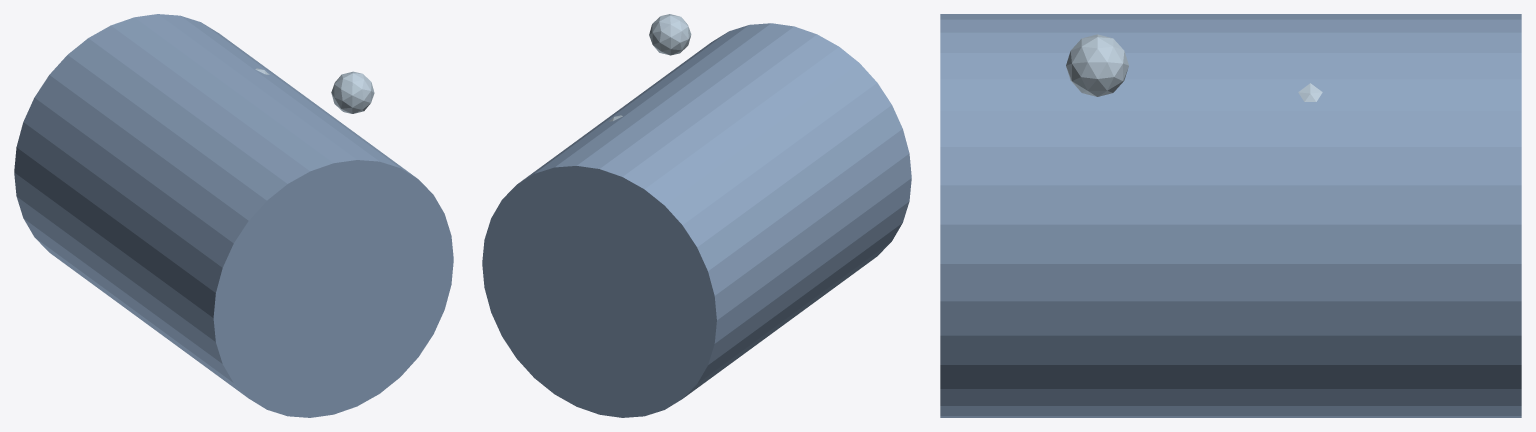
File: time_spawn.glb
3 views of the same model, side by side, from view 1: azimuth 30°, elevation 25°; view 2: azimuth 150°, elevation 25°; view 3: azimuth 270°, elevation 25° (orthographic). The views are drawn at different scales.
Parts seen in each view (by area): view 1: geometry_0; view 2: geometry_0; view 3: geometry_0.
Boxes of the visible parts, bbox=[...] form: geometry_0: bbox=[14, 14, 453, 417]; geometry_0: bbox=[482, 14, 911, 417]; geometry_0: bbox=[940, 14, 1521, 417].
Bounding box in the file's own units: 0.64 × 0.7233 × 0.92.
